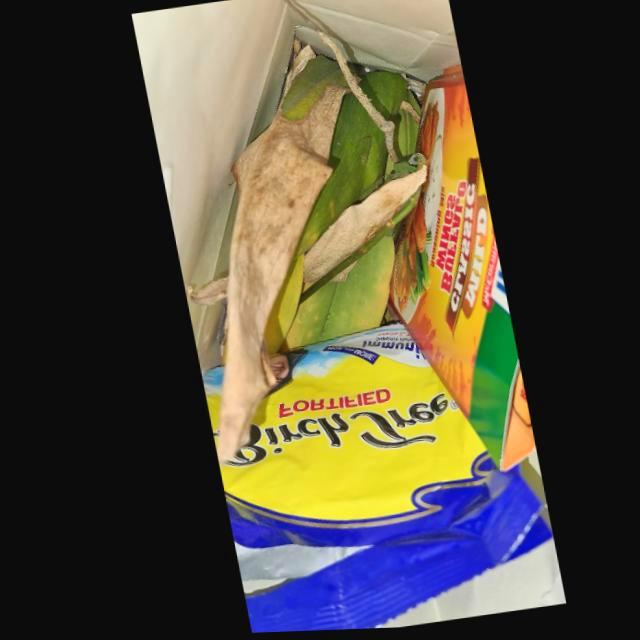food_wrapper: (193, 326, 541, 634), (383, 66, 527, 475)
